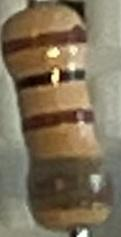Black: (14, 66, 88, 91)
Brown: (2, 24, 88, 57), (20, 108, 95, 133)
Side-Silver: (29, 156, 113, 213)
